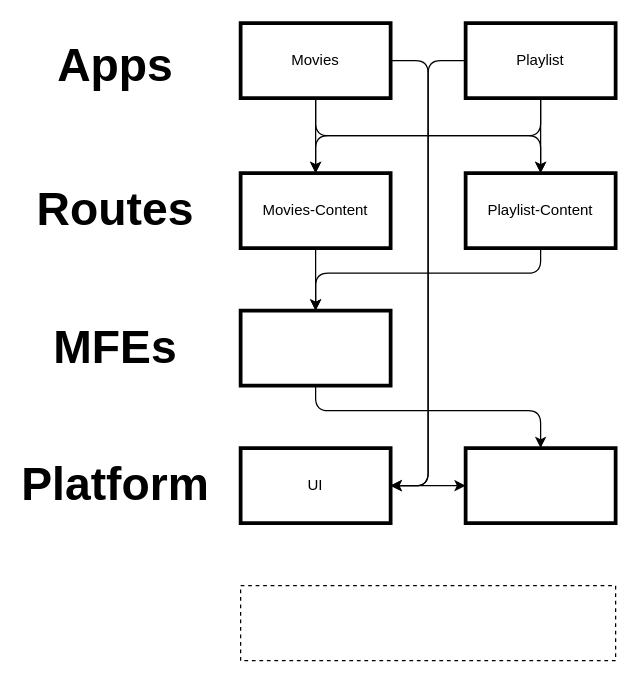
The diagram is 639 pixels wide and 683 high, and some of its shapes have lost their labels. The centre of each missing label's shape, as x and y in pixels:
Card: (315,347)
Mantine/React: (427,622)
Store: (540,485)
